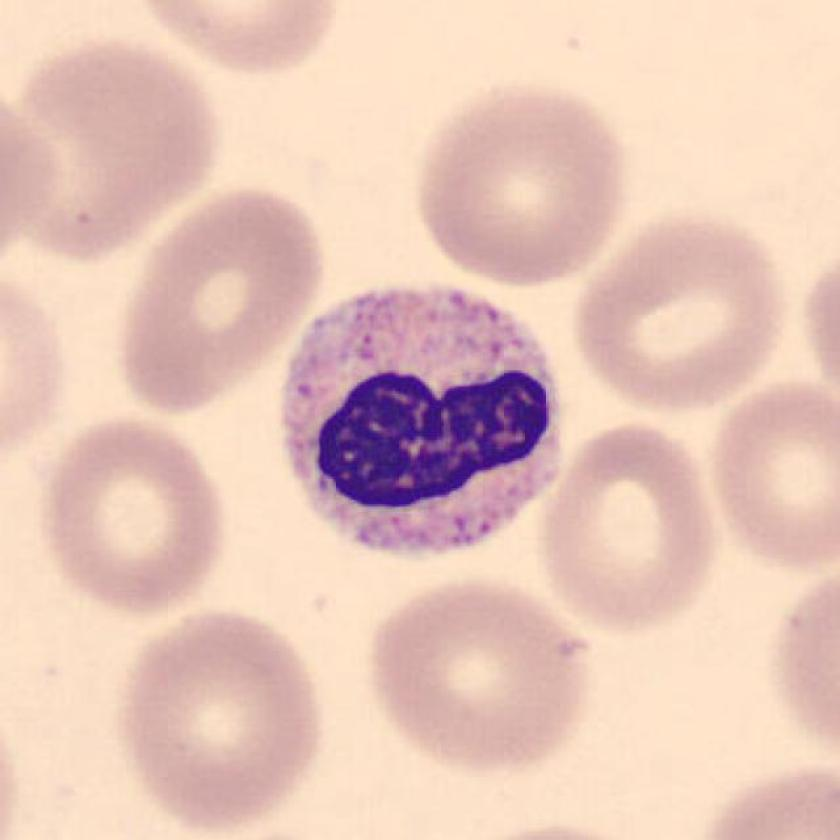neutrophil: (285, 283, 560, 555)
